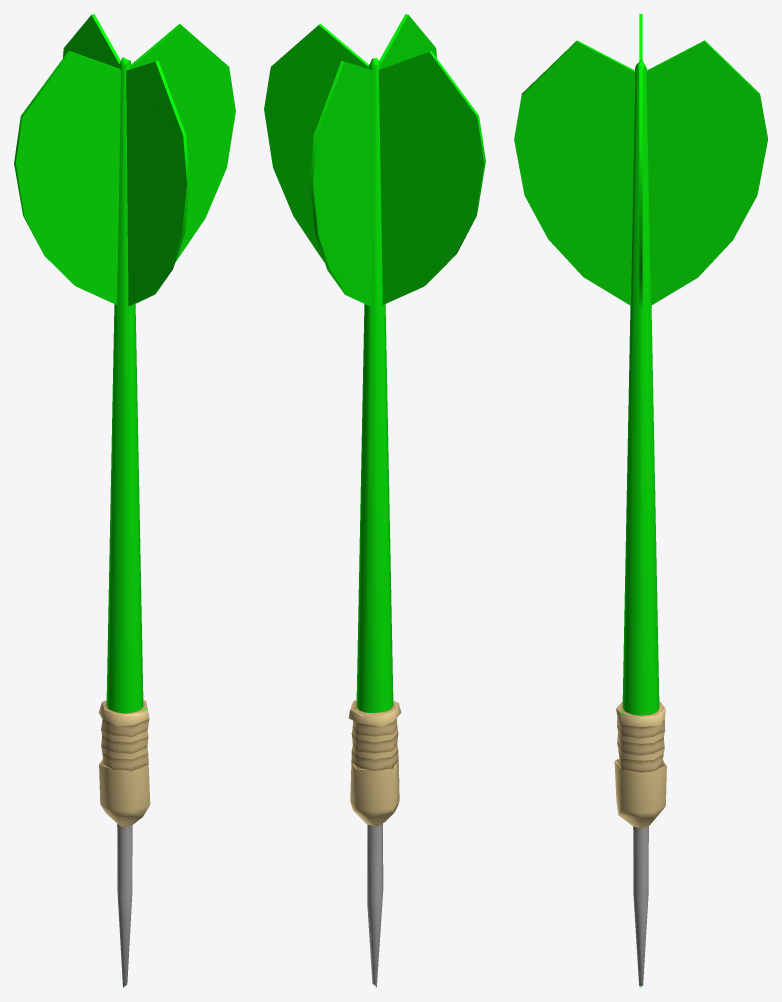
The model's file is dart_green.glb.
3 views of the same model, side by side, from view 1: azimuth 30°, elevation 25°; view 2: azimuth 150°, elevation 25°; view 3: azimuth 270°, elevation 25° (orthographic).
Visible parts, largest first — view 1: dart_green; view 2: dart_green; view 3: dart_green.
Part boxes in pixels (x1,y1,x2,y2): dart_green: (14,14,235,987); dart_green: (264,14,485,987); dart_green: (514,14,767,987).
Bounding box in the file's own units: 0.0343 × 0.1412 × 0.0343.
1 material, 1 textured.
